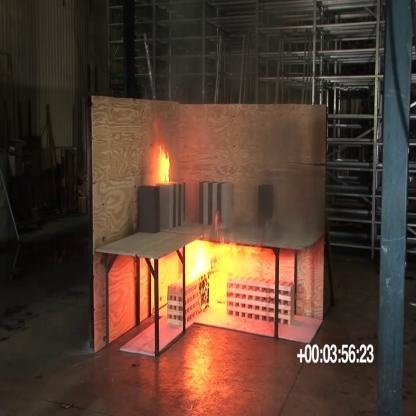fire: (166, 236, 263, 303), (145, 131, 181, 208)
